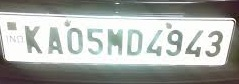numberplate: (1, 13, 236, 66)
